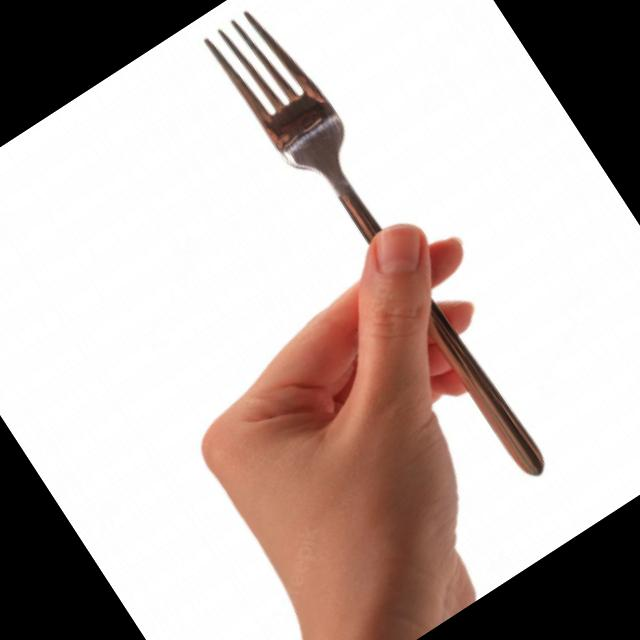fork: (197, 0, 563, 500)
